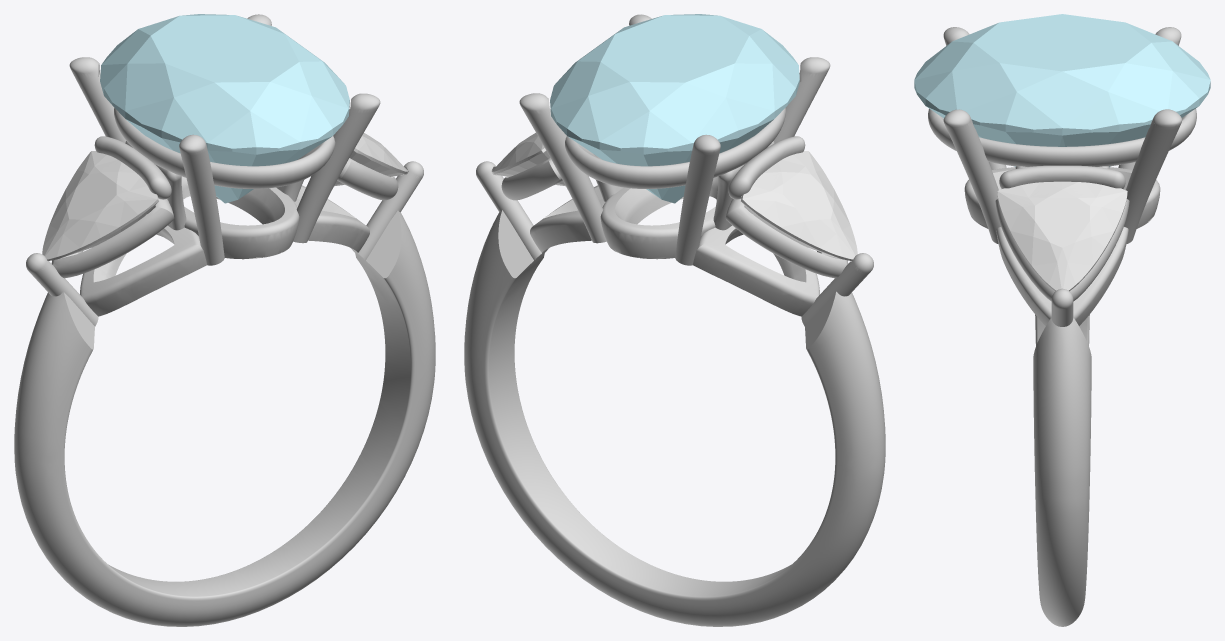
The model's file is SusanPTtrillonV2_blender.glb.
3 views of the same model, side by side, from view 1: azimuth 30°, elevation 25°; view 2: azimuth 150°, elevation 25°; view 3: azimuth 270°, elevation 25° (orthographic).
Parts seen in each view (by area): view 1: V2 Susan PT for 3d model, V2 Susan aqua for 3d model, V2 Susan dia for 3d model.001, V2 Susan dia for 3d model; view 2: V2 Susan PT for 3d model, V2 Susan aqua for 3d model, V2 Susan dia for 3d model.001, V2 Susan dia for 3d model; view 3: V2 Susan PT for 3d model, V2 Susan aqua for 3d model, V2 Susan dia for 3d model.
Boxes of the visible parts, bbox=[...] form: V2 Susan PT for 3d model: bbox=[14, 14, 435, 626]; V2 Susan aqua for 3d model: bbox=[100, 14, 349, 203]; V2 Susan dia for 3d model.001: bbox=[42, 151, 158, 260]; V2 Susan dia for 3d model: bbox=[334, 133, 407, 186]; V2 Susan PT for 3d model: bbox=[464, 14, 885, 626]; V2 Susan aqua for 3d model: bbox=[550, 14, 799, 203]; V2 Susan dia for 3d model.001: bbox=[741, 151, 857, 260]; V2 Susan dia for 3d model: bbox=[492, 133, 565, 186]; V2 Susan PT for 3d model: bbox=[928, 27, 1196, 626]; V2 Susan aqua for 3d model: bbox=[914, 14, 1210, 166]; V2 Susan dia for 3d model: bbox=[997, 181, 1127, 291].
Bounding box in the file's own units: 21.76 × 28.61 × 13.68.
